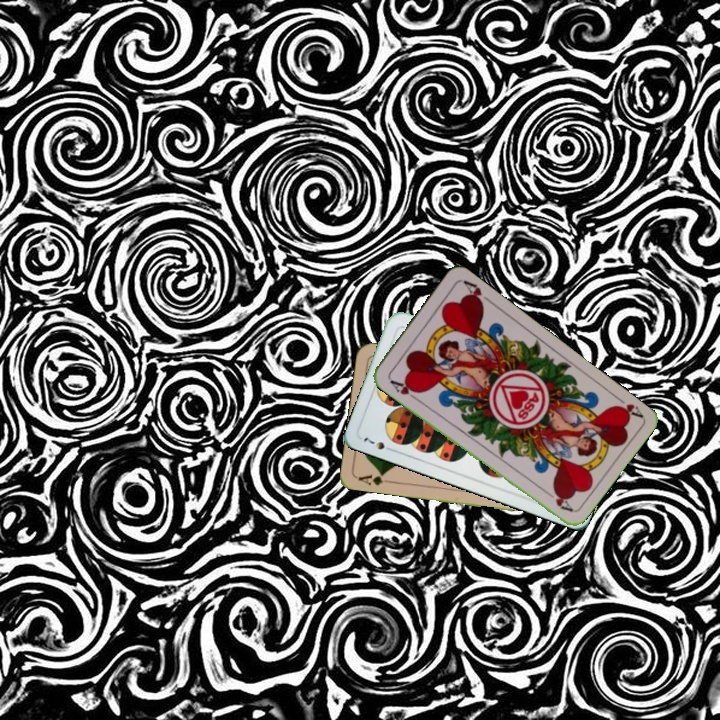GA: (354, 469, 395, 488)
HA: (385, 374, 423, 403), (609, 391, 645, 421)
S7: (359, 433, 397, 454)
